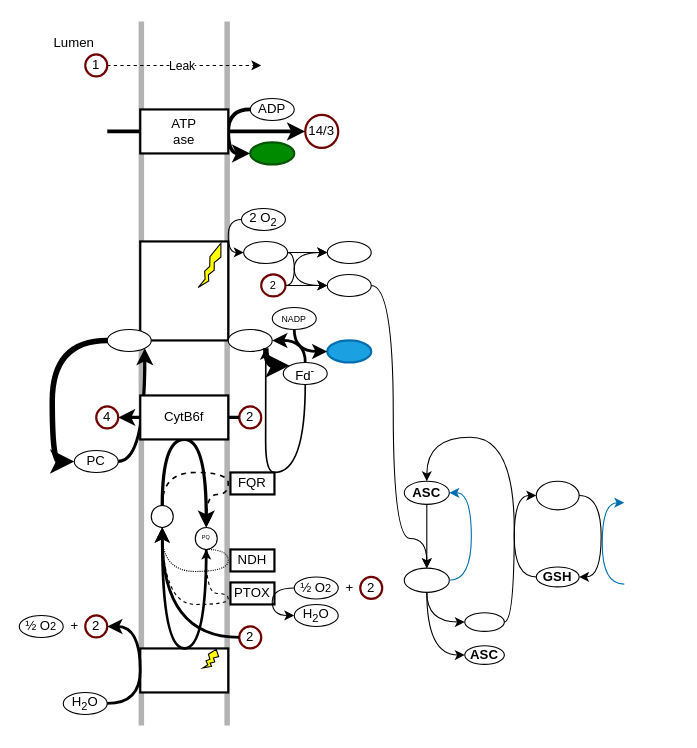
Image size: 697x748. Some labels were removed from this diagram. The shapes that lost their labels are listed below. From the top down, each one's centre as x and y in pixels, then its label:
point 272,153: ATP
point 265,251: 2 O 2 *
point 348,251: O 2
point 184,290: PSI
point 348,284: H 2 O 2
point 128,339: PC -
point 249,339: Fd
point 349,351: NADPH
point 161,515: PQH 2
point 557,495: GSSG
point 426,579: MDA
point 484,621: DHA
point 184,670: PSII
